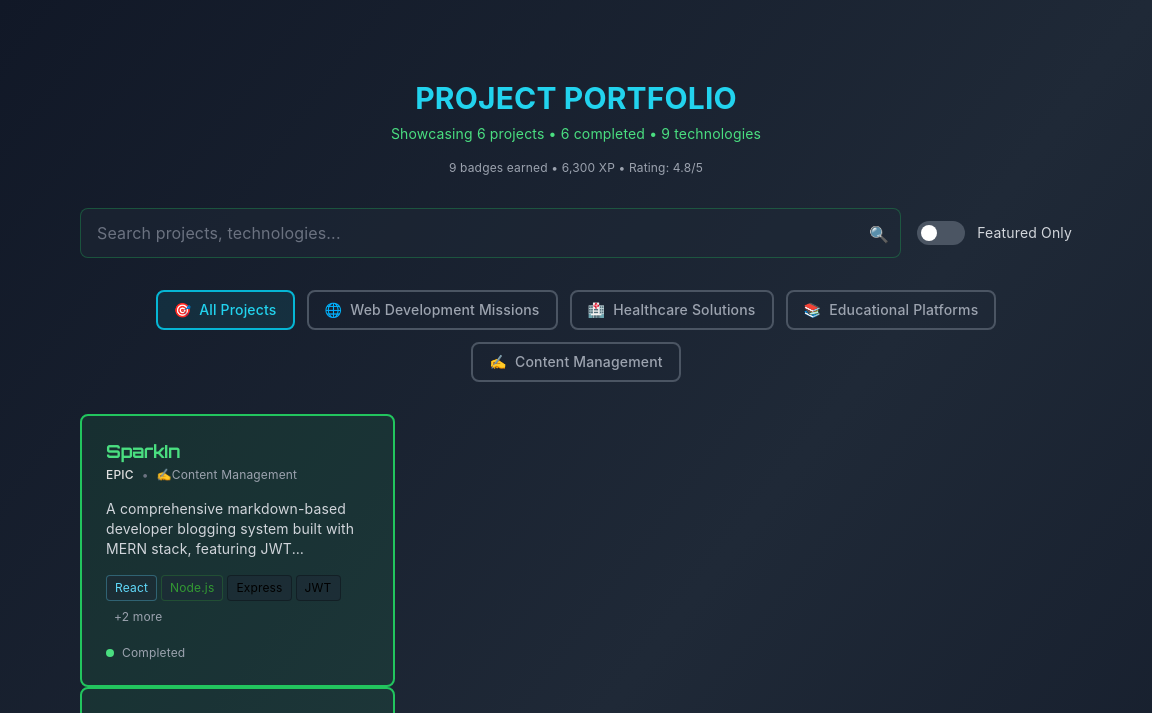
Scenario: ProjectsSection › featured toggle works correctly
The width and height of the screenshot is (1152, 713).
// Toggle featured projects
What coordinates should you click on to do the following:
click the checkbox labelled "Featured Only"
I would click on:
 (995, 233)
Its box is 917,221 -> 1072,245.
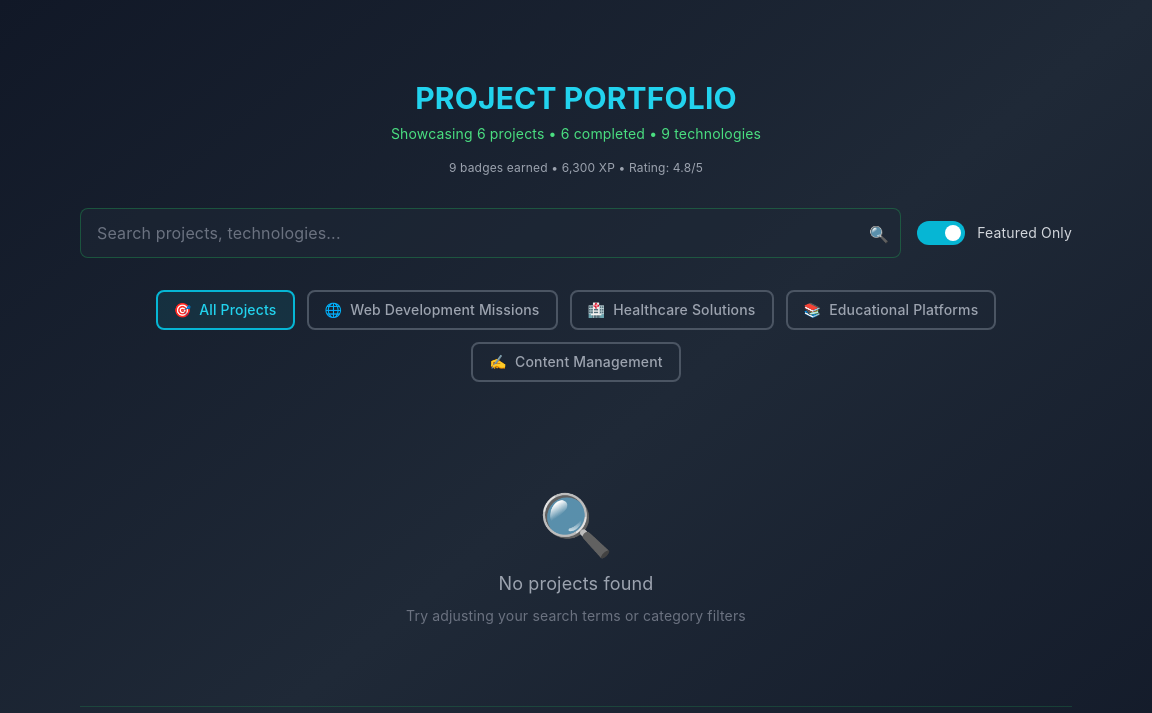
Expected: the heading "SparkIn" is gone
